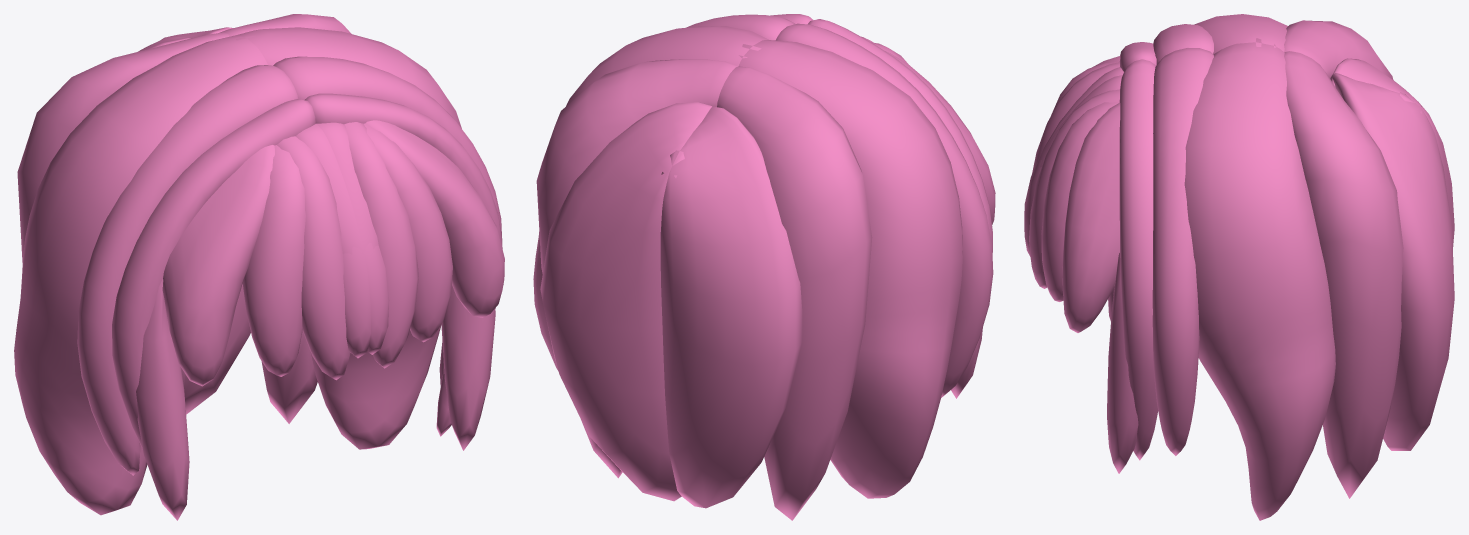
Rendered from character2.fbx.
3 views of the same model, side by side, from view 1: azimuth 30°, elevation 25°; view 2: azimuth 150°, elevation 25°; view 3: azimuth 270°, elevation 25° (orthographic). The views are drawn at different scales.
Parts seen in each view (by area): view 1: cheveux.013; view 2: cheveux.013; view 3: cheveux.013.
Part boxes in pixels (box(x1,y1,x2,y2)): cheveux.013: box(14, 14, 504, 520); cheveux.013: box(533, 14, 995, 520); cheveux.013: box(1024, 14, 1454, 520).
Bounding box in the file's own units: 776 × 779 × 731.
